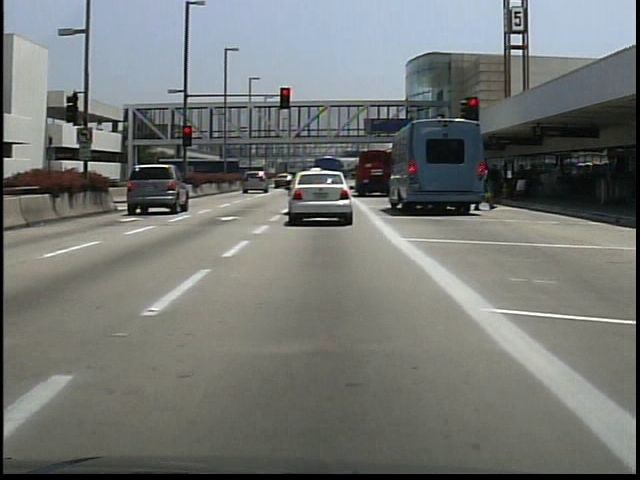person: (514, 158, 530, 202)
